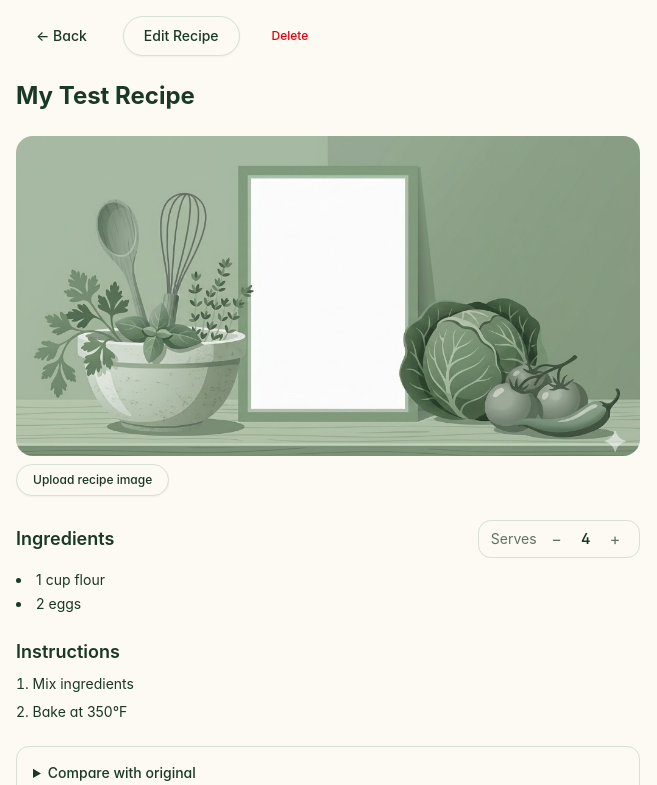
Test: RecipeDetailPage › shows error alert when delete fails
Expected: the heading "My Test Recipe" is shown, [16,81,195,110]
Click the button "Delete".
click(290, 36)  # box [256,20,324,52]
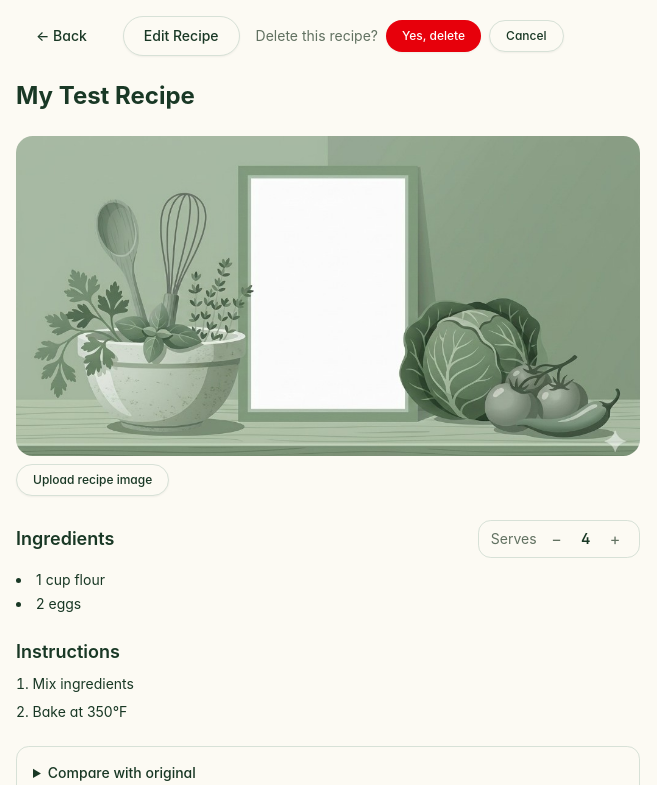
Click the button "Yes, delete".
click(434, 36)  # box [386,20,481,52]
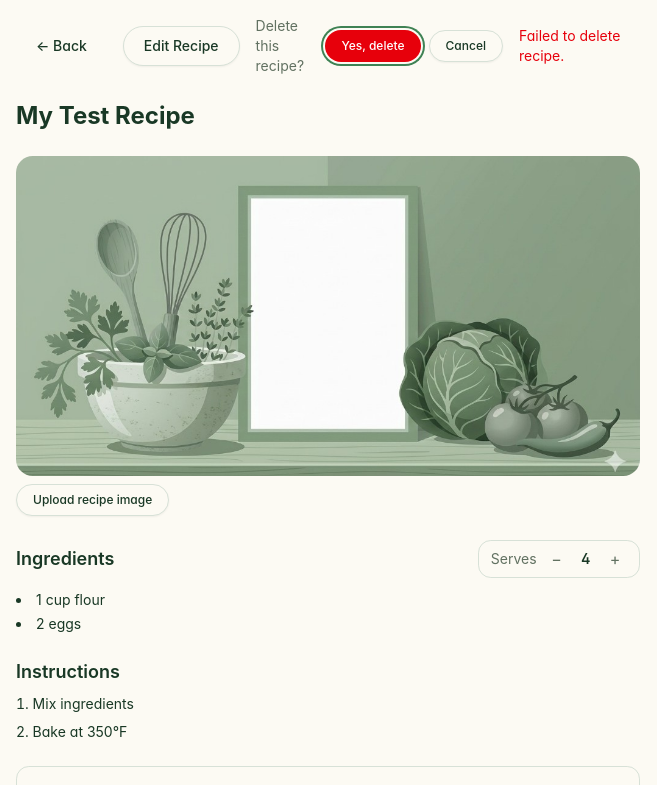
Now the message "Failed to delete recipe." is shown, box [519,27,620,64]
